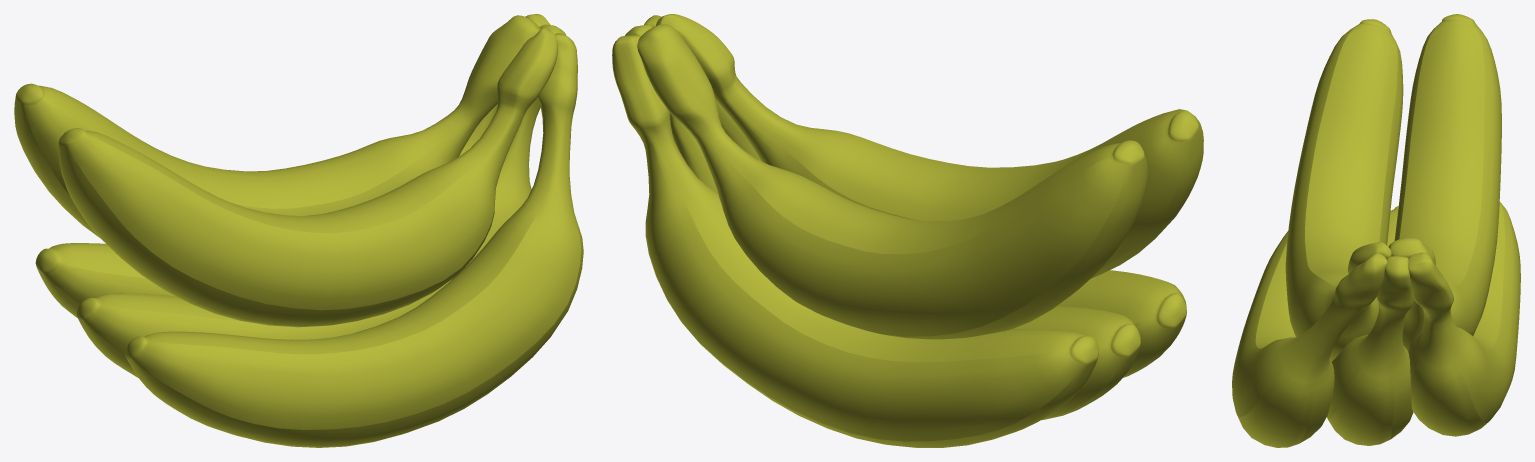
File: bananas_lod1.fbx
The picture shows the model from 3 angles, left to right: view 1: azimuth 30°, elevation 25°; view 2: azimuth 150°, elevation 25°; view 3: azimuth 270°, elevation 25°; orthographic projection. The views are drawn at different scales.
Parts seen in each view (by area): view 1: banana26, polySurface8, polySurface10, polySurface9, banana27; view 2: polySurface10, banana27, polySurface8, banana26, polySurface9; view 3: polySurface8, polySurface10, banana26, banana27, polySurface9.
Part boxes in pixels (box(x1,y1,x2,y2)): banana26: box(125, 33, 583, 447); polySurface8: box(58, 27, 557, 327); polySurface10: box(14, 15, 540, 238); polySurface9: box(76, 24, 566, 377); banana27: box(35, 14, 550, 317); polySurface10: box(637, 24, 1148, 339); banana27: box(612, 35, 1098, 447); polySurface8: box(656, 14, 1203, 278); banana26: box(644, 15, 1186, 377); polySurface9: box(625, 24, 1140, 420); polySurface8: box(1285, 19, 1403, 361); polySurface10: box(1388, 14, 1501, 350); banana26: box(1232, 231, 1387, 447); banana27: box(1408, 202, 1520, 436); polySurface9: box(1327, 206, 1414, 445).
Bounding box in the file's own units: 27.89 × 17.42 × 15.1.
